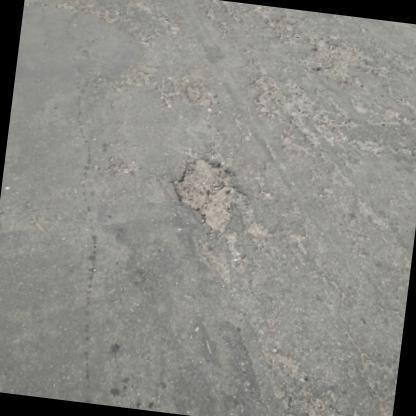pothole: (170, 152, 246, 237)
